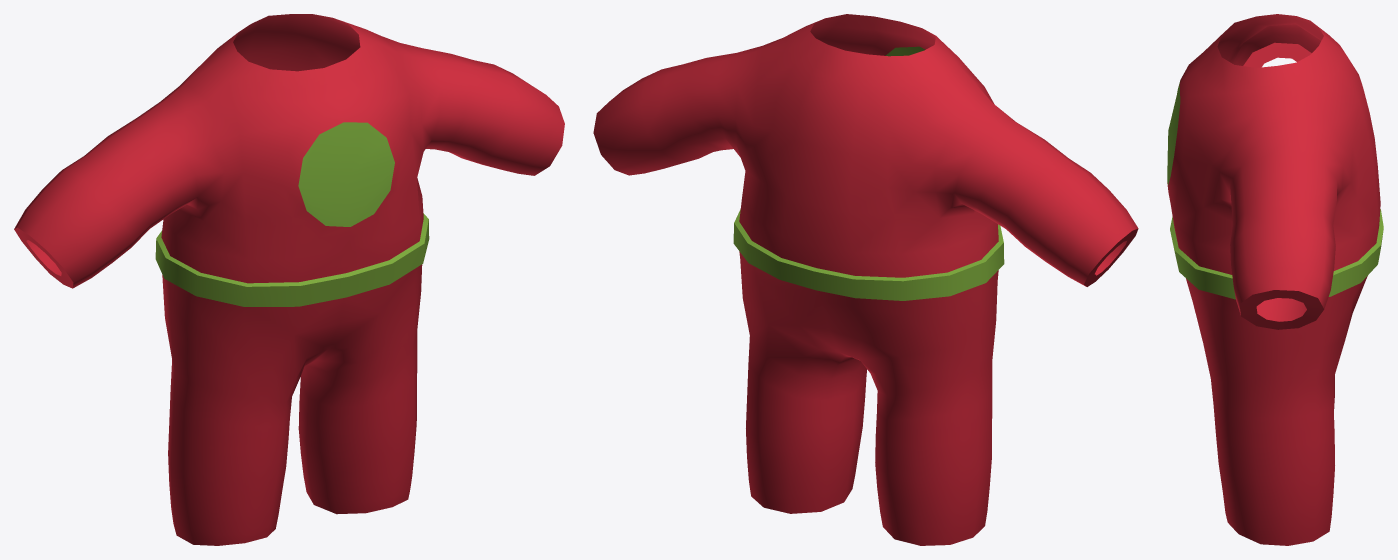
The model's file is Costume_5_01.glb.
3 views of the same model, side by side, from view 1: azimuth 30°, elevation 25°; view 2: azimuth 150°, elevation 25°; view 3: azimuth 270°, elevation 25° (orthographic). The views are drawn at different scales.
Visible parts, largest first — view 1: Costume_5_01; view 2: Costume_5_01; view 3: Costume_5_01.
Part boxes in pixels (bbox=[...]): Costume_5_01: bbox=[14, 14, 564, 545]; Costume_5_01: bbox=[593, 14, 1138, 545]; Costume_5_01: bbox=[1167, 14, 1383, 545].
Bounding box in the file's own units: 0.5373 × 0.4649 × 0.199.
Materials: 1 (1 with a texture image).
